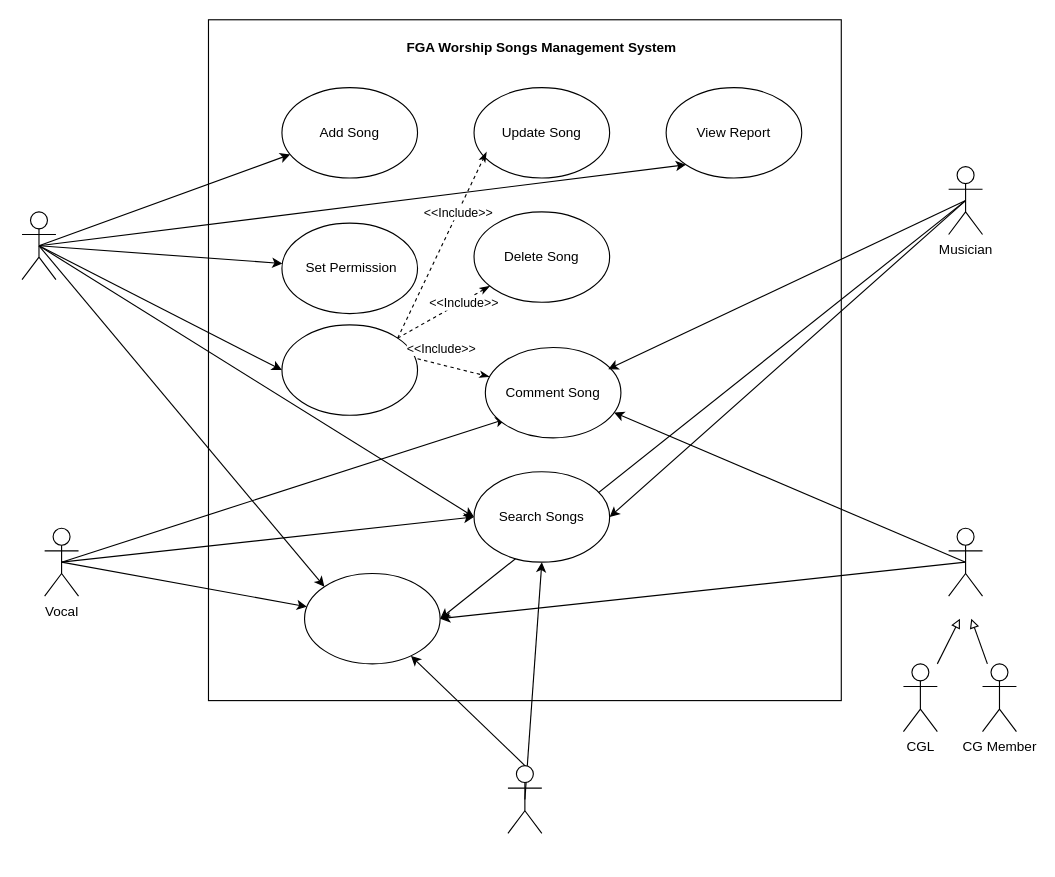
Image size: 1055x877. Some labels were removed from this diagram. The centre of each missing label's shape, as x and y in pixels:
Admin: the point at 38,245
Login User: the point at 965,561
Manage Song: the point at 349,369
View Introduction: the point at 371,618
Vistor: the point at 524,798
